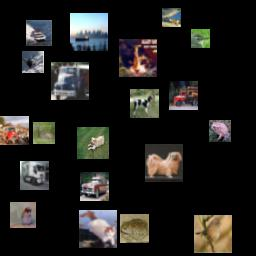airplane: (22, 51, 44, 73)
automobile: (80, 172, 109, 201)
bird: (194, 215, 232, 253), (10, 202, 36, 228), (191, 29, 210, 48)
cat: (119, 39, 157, 77), (79, 210, 117, 248)
deer: (33, 122, 55, 144), (162, 8, 181, 27)
dog: (145, 144, 183, 182), (77, 127, 109, 159), (130, 89, 159, 118)
frog: (120, 214, 149, 243), (209, 120, 231, 142)
ship: (70, 13, 108, 51), (26, 20, 52, 46)
truck: (51, 62, 89, 100), (20, 161, 49, 190), (0, 116, 29, 145), (169, 81, 198, 110)
